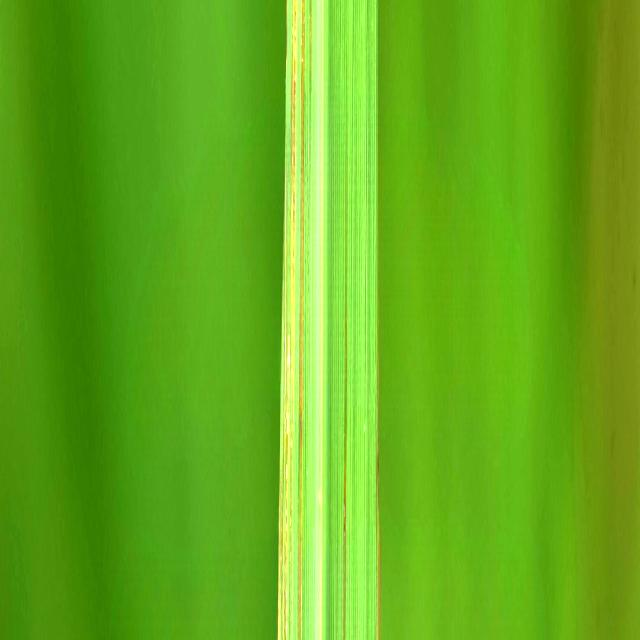BLS: (297, 0, 305, 640), (284, 179, 290, 640), (291, 0, 297, 414), (343, 175, 347, 640), (290, 343, 293, 640), (376, 440, 380, 640), (278, 464, 281, 640), (309, 0, 311, 174), (286, 0, 288, 102), (356, 637, 356, 640)
